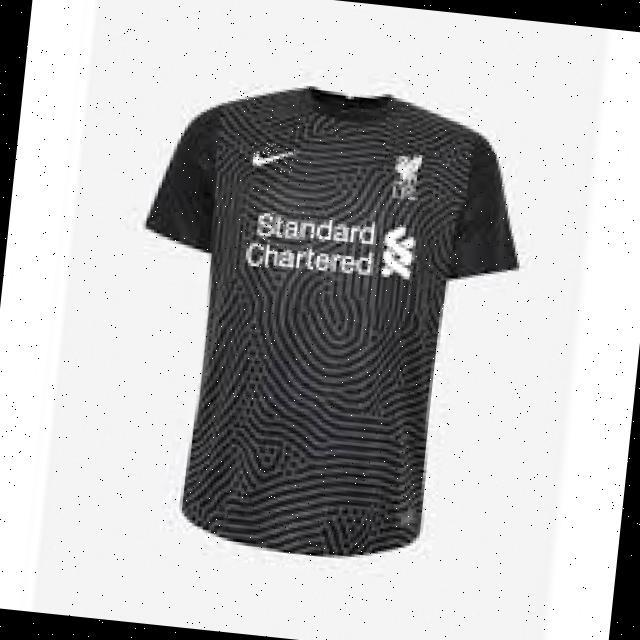Nike: (249, 142, 295, 174)
Standard Chartered: (243, 206, 421, 283)
